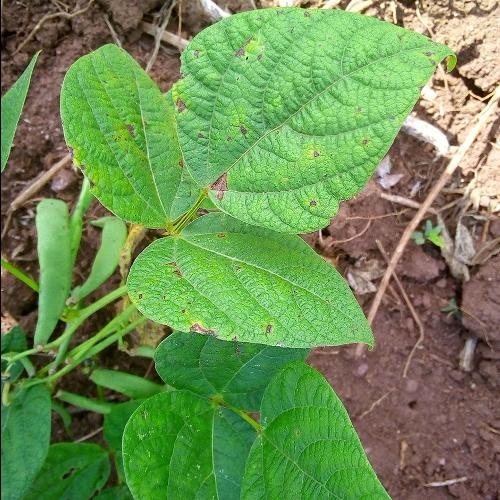hawar: (160, 70, 240, 196), (171, 314, 240, 344)
